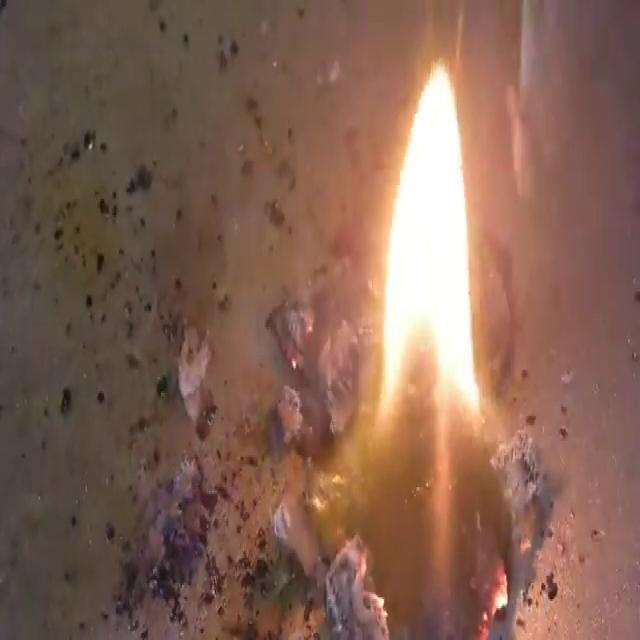Fire: (4, 4, 636, 636), (376, 57, 483, 427)
